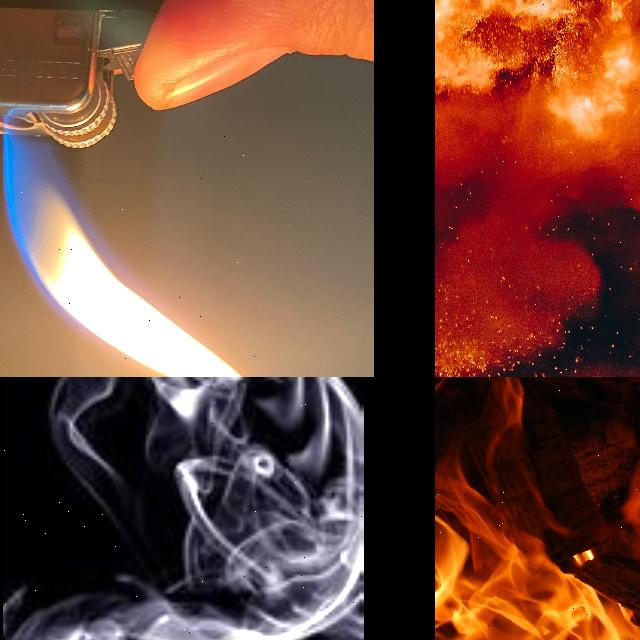fire: (435, 0, 640, 377), (4, 135, 244, 377), (435, 377, 640, 640)
smoke: (4, 377, 362, 640)
